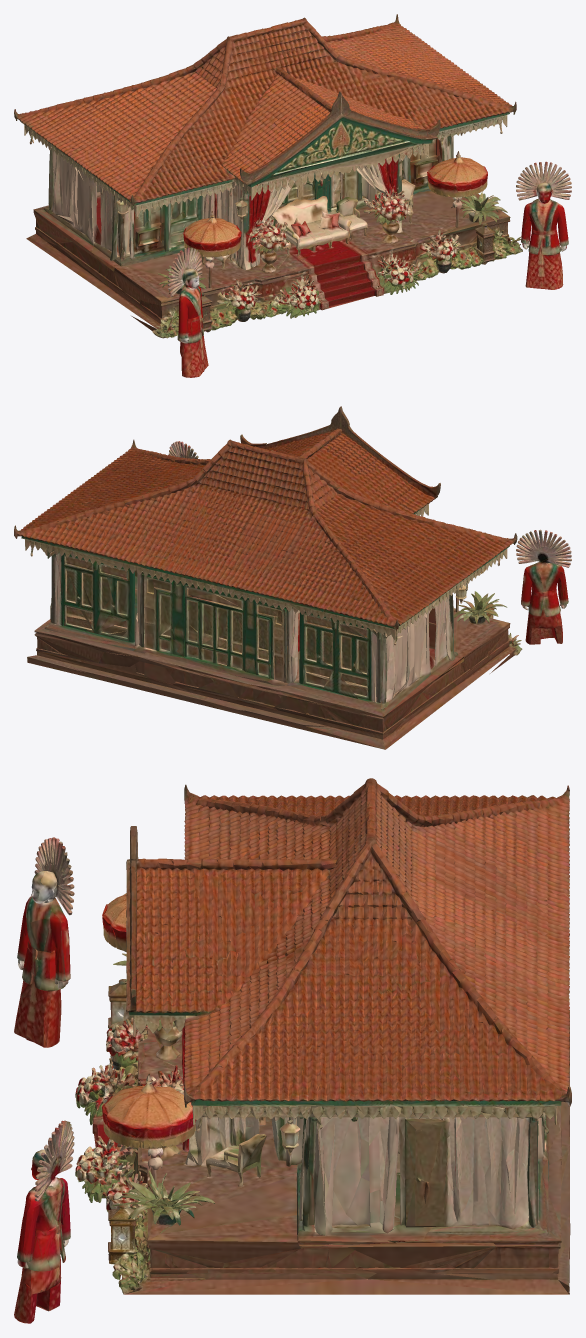
Rendered from rumah-betawi.glb.
3 views of the same model, one above another, from view 1: azimuth 30°, elevation 25°; view 2: azimuth 150°, elevation 25°; view 3: azimuth 270°, elevation 25° (orthographic). The views are drawn at different scales.
Visible parts, largest first — view 1: output_unwrapped; view 2: output_unwrapped; view 3: output_unwrapped.
Boxes of the visible parts, left/top/right/bottom form: output_unwrapped: left=14, top=14, right=571, bottom=377; output_unwrapped: left=14, top=406, right=571, bottom=749; output_unwrapped: left=14, top=778, right=571, bottom=1323.
Size of the model in its own units: 1.9 by 1.02 by 1.4.
1 material, 1 textured.
